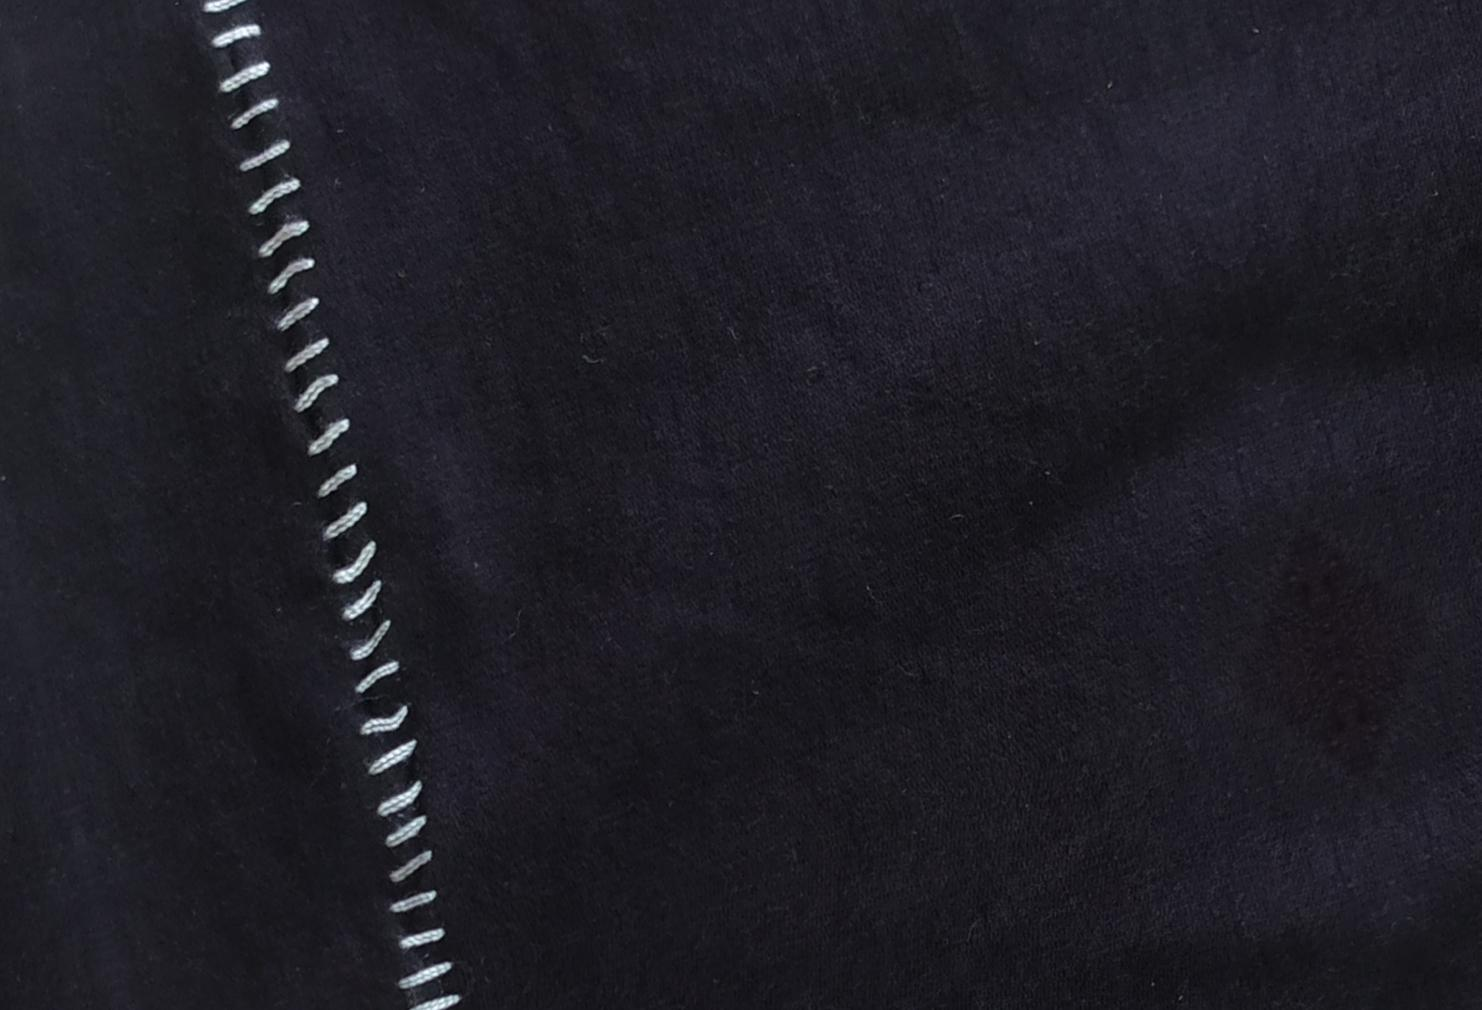slub: (194, 3, 494, 1010)
